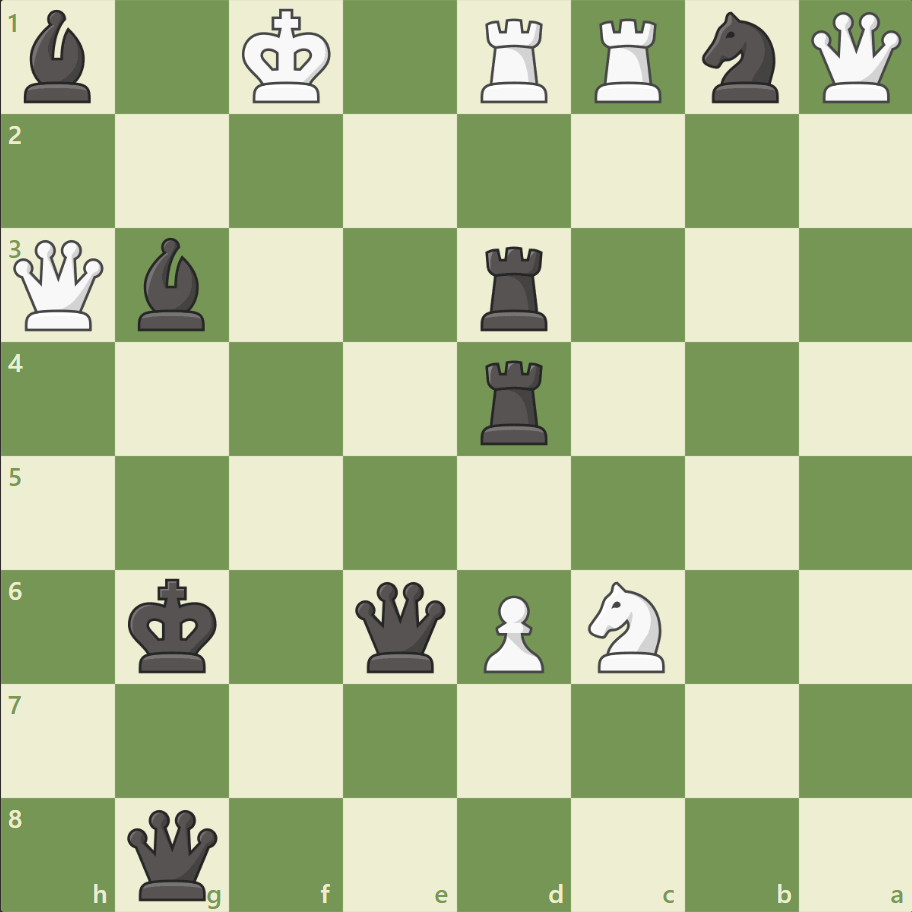K: (238, 4, 338, 112)
N: (579, 575, 676, 677)
P: (474, 586, 549, 677)
Q: (10, 236, 109, 335), (805, 9, 904, 108)
R: (587, 12, 670, 109), (473, 12, 556, 109)
b: (131, 233, 215, 336), (17, 6, 101, 109)
k: (124, 571, 224, 679)
n: (692, 7, 789, 110)
q: (351, 576, 450, 676), (124, 804, 223, 903)
r: (473, 352, 556, 449), (473, 239, 556, 336)
